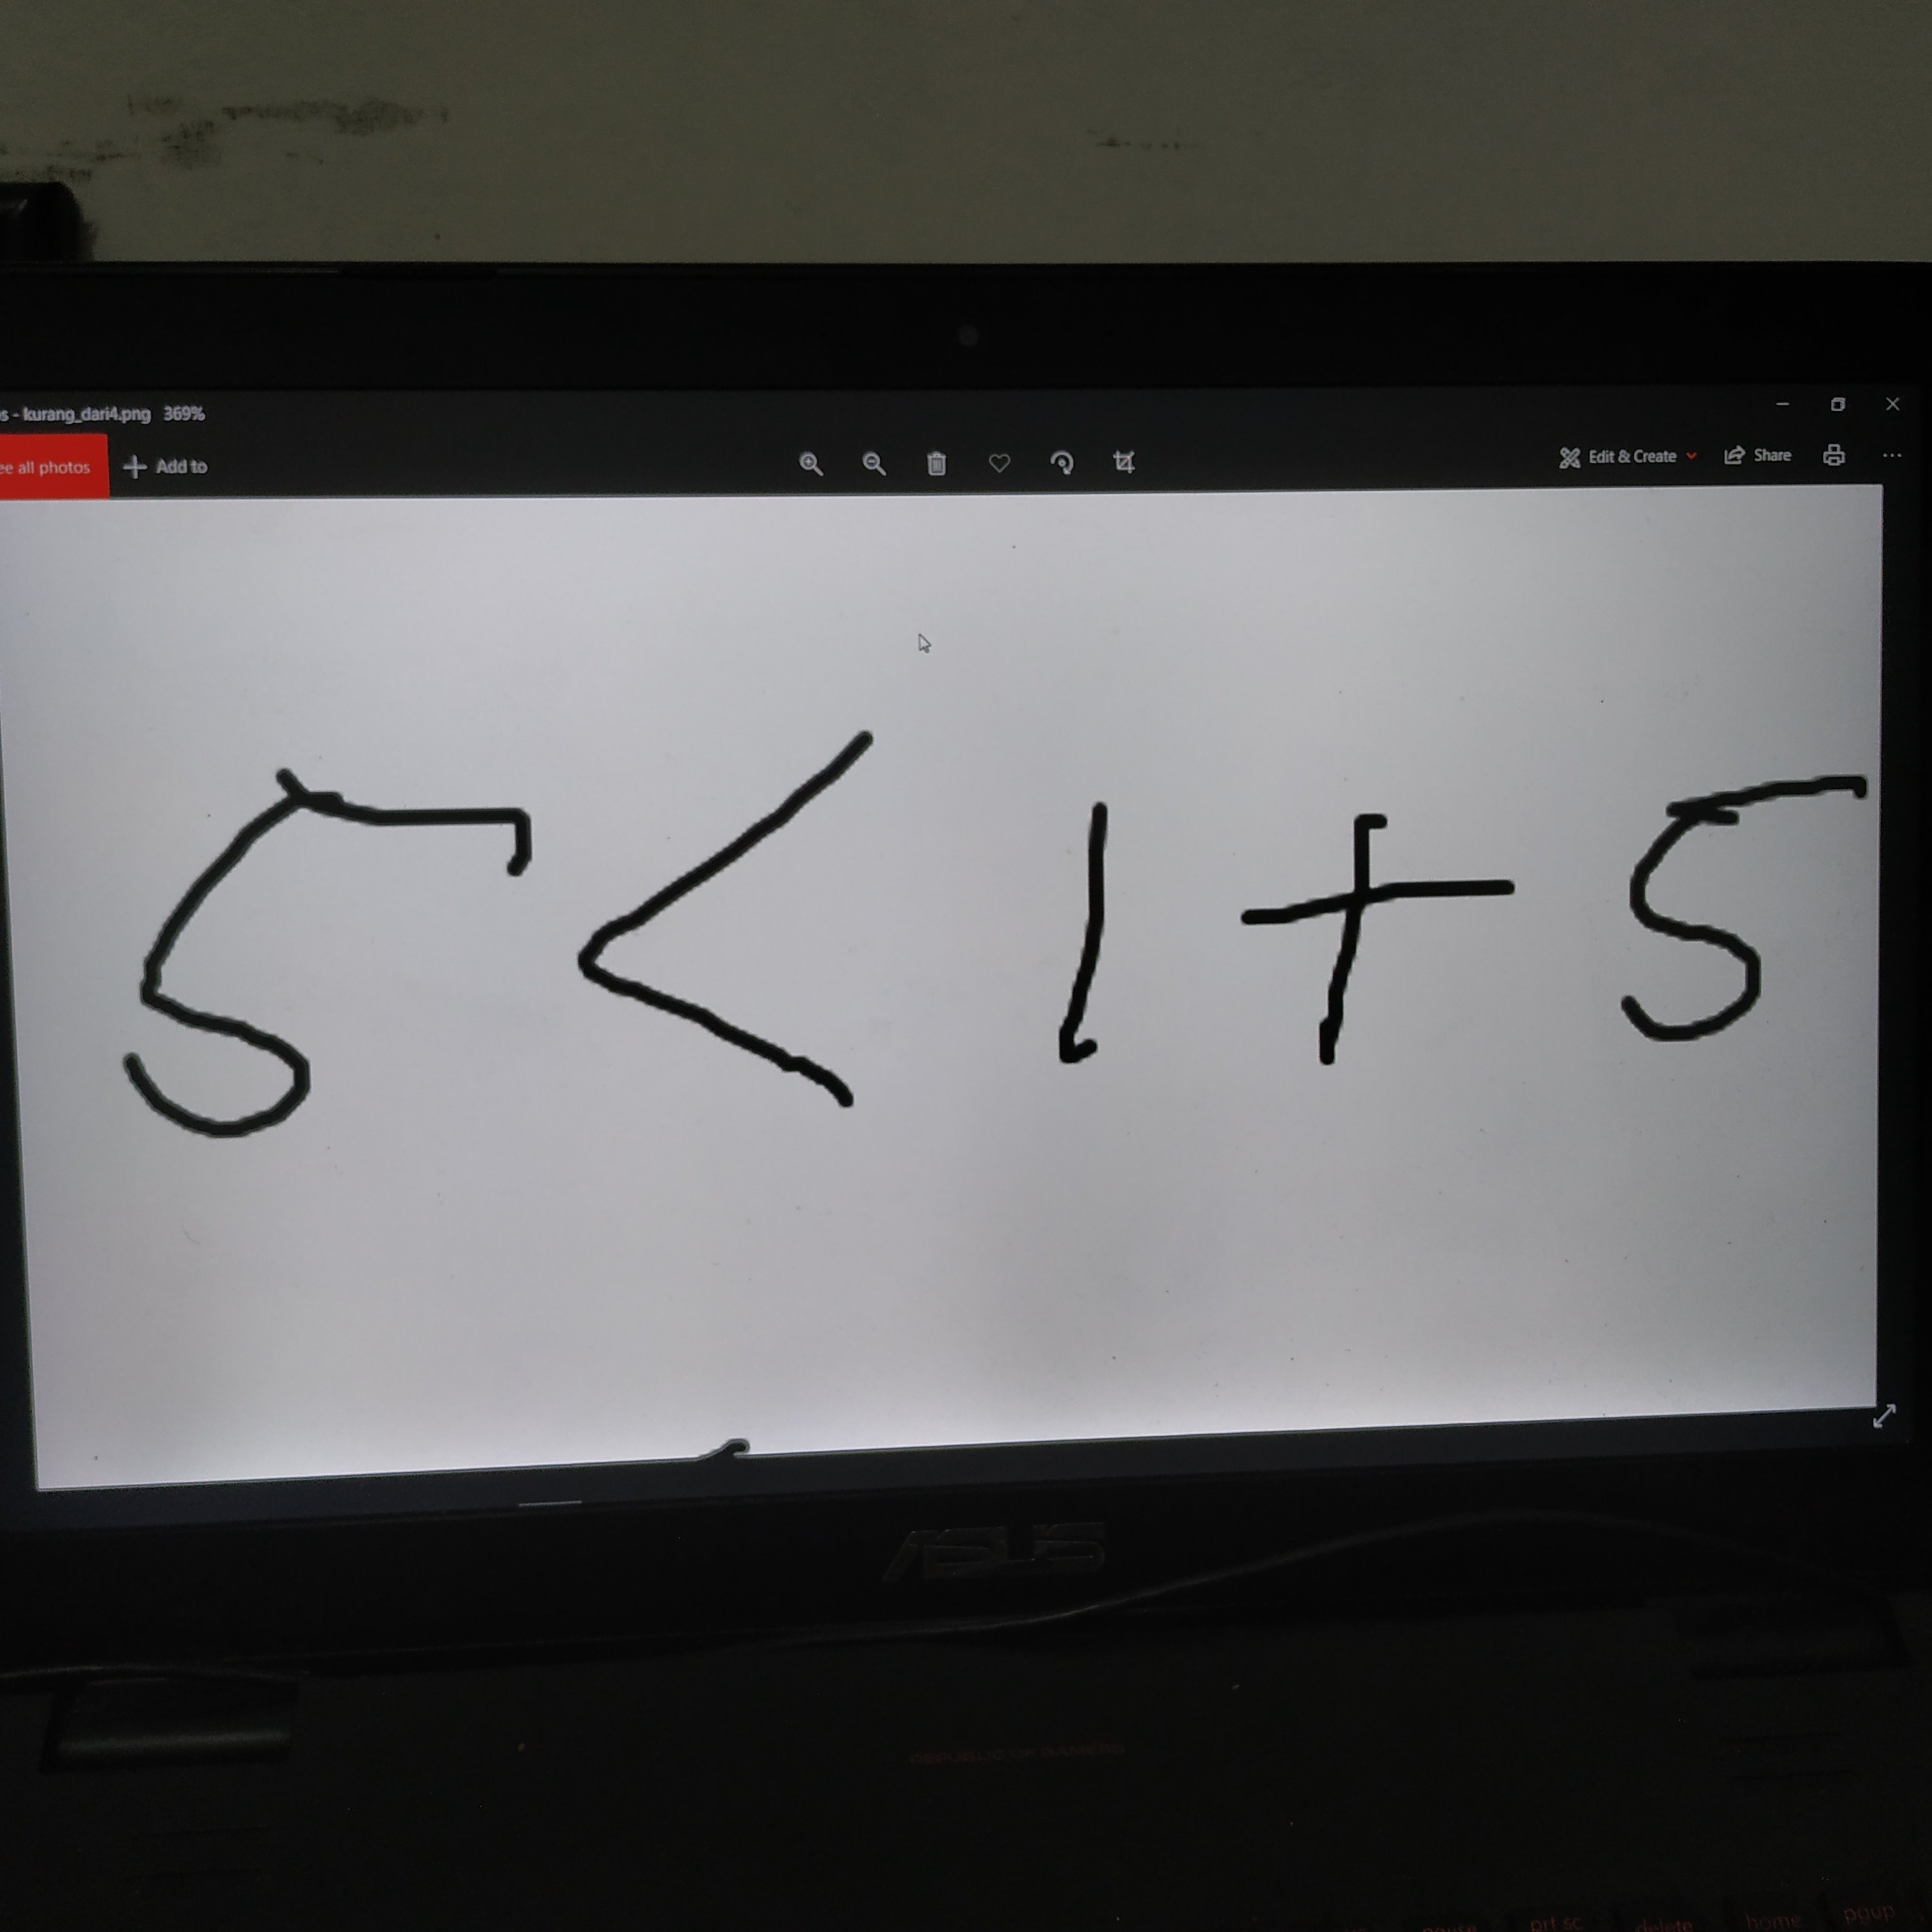lessthan: (539, 727, 951, 1124)
num1: (1019, 790, 1166, 1094)
num5: (92, 761, 565, 1160), (1601, 772, 1878, 1057)
sum: (1224, 806, 1546, 1084)
